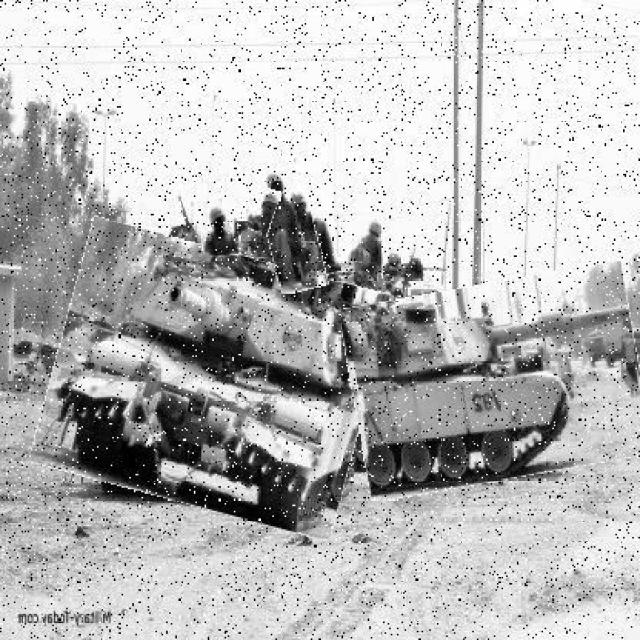Person: (261, 169, 324, 295), (295, 194, 336, 280), (349, 219, 384, 281), (201, 204, 239, 258), (251, 187, 280, 235)
Tank: (43, 235, 381, 524), (347, 272, 640, 493)
